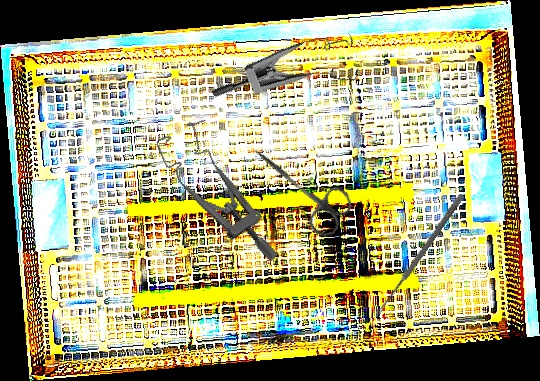Iris Scissors: (236, 131, 359, 242)
Speculum: (209, 7, 374, 151), (153, 110, 280, 285)
Surgical Spoon: (375, 192, 465, 317)
